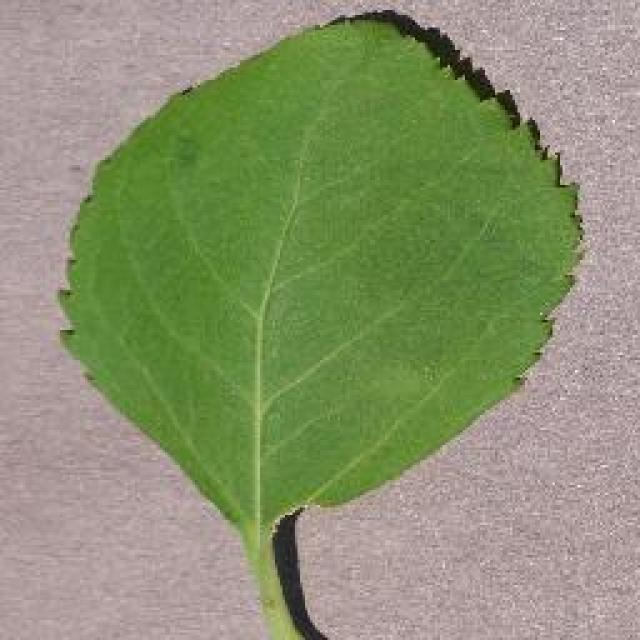Cherry___healthy: (43, 5, 595, 640)
